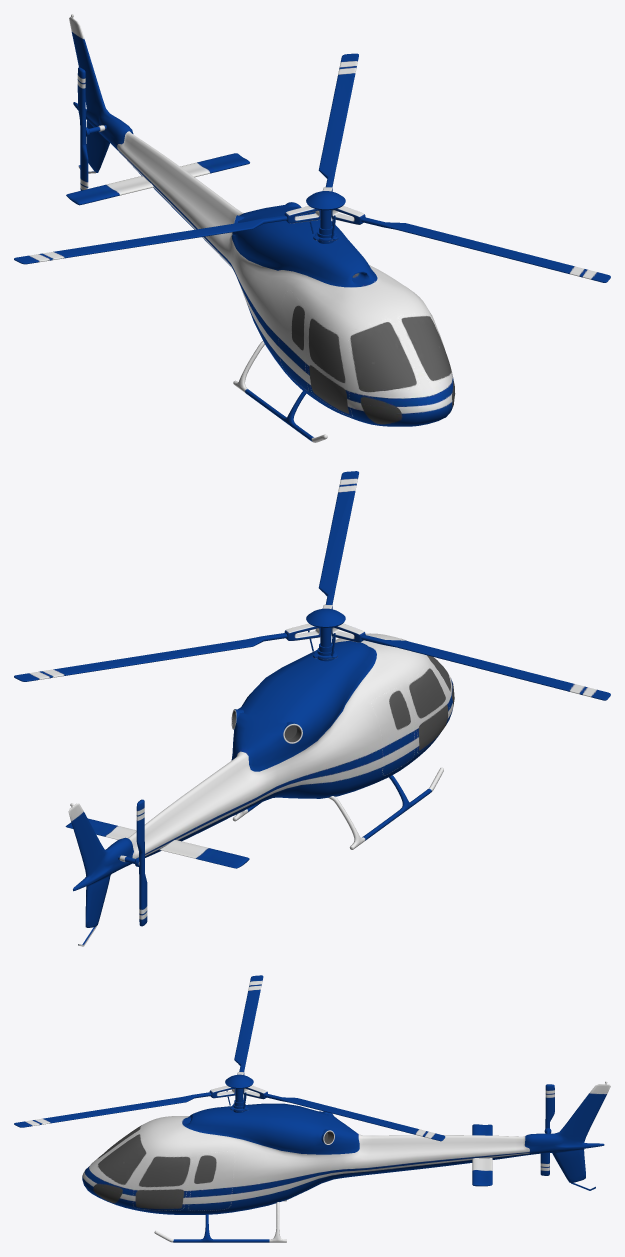
File: heli1.glb
3 views of the same model, one above another, from view 1: azimuth 30°, elevation 25°; view 2: azimuth 150°, elevation 25°; view 3: azimuth 270°, elevation 25° (orthographic). The views are drawn at different scales.
Parts seen in each view (by area): view 1: body, propeller, rotor; view 2: body, propeller, rotor; view 3: body, propeller, rotor.
Part boxes in pixels (x1,y1,x2,y2): body: [66, 14, 455, 442]; propeller: [14, 53, 610, 282]; rotor: [77, 67, 88, 190]; body: [65, 633, 454, 946]; propeller: [14, 471, 610, 700]; rotor: [136, 799, 147, 926]; body: [82, 1081, 610, 1242]; propeller: [14, 975, 445, 1141]; rotor: [540, 1084, 554, 1175].
Size of the model in its own units: 8.89 by 3.64 by 13.57.
Materials: 1 (1 with a texture image).
